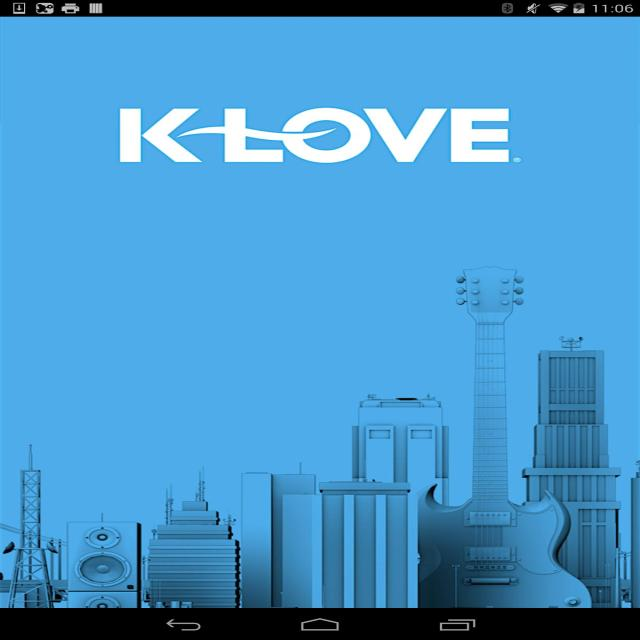heading: (112, 102, 527, 169)
image: (2, 18, 640, 609)
